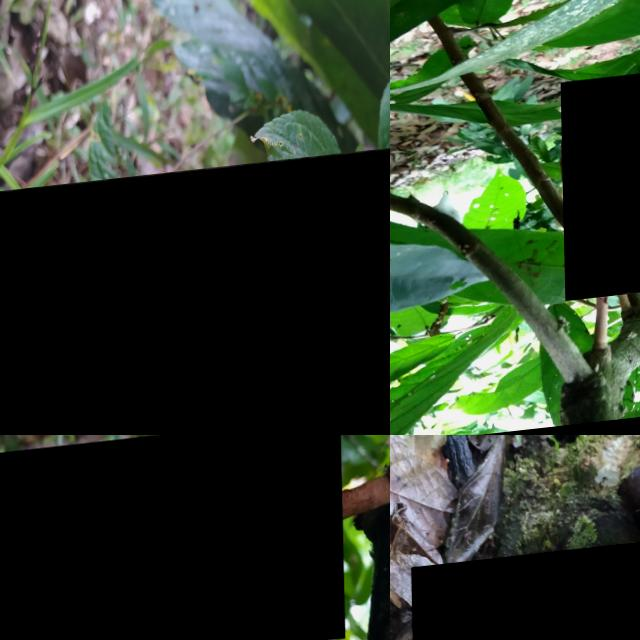Fitoftora: (559, 79, 640, 306)
Monilia: (0, 435, 342, 640), (410, 545, 640, 640)
Sana: (0, 157, 390, 435)
